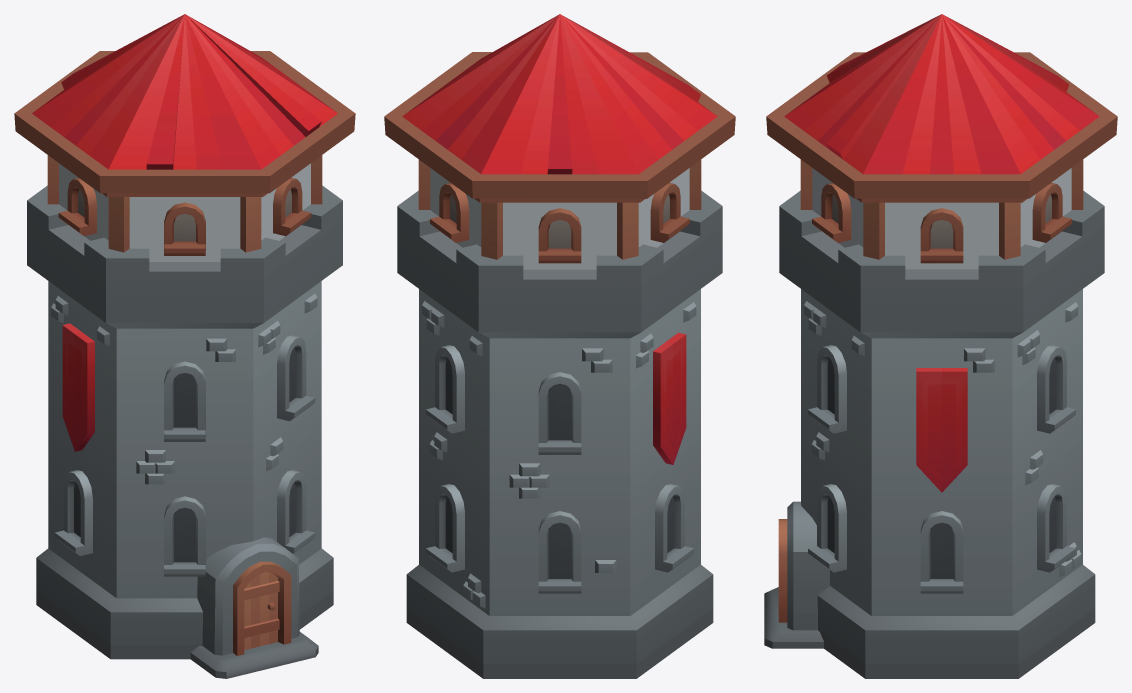
Rendered from kk_tower_a_v1.glb.
The picture shows the model from 3 angles, left to right: view 1: azimuth 30°, elevation 25°; view 2: azimuth 150°, elevation 25°; view 3: azimuth 270°, elevation 25°; orthographic projection. The views are drawn at different scales.
Parts seen in each view (by area): view 1: building_tower_A_red; view 2: building_tower_A_red; view 3: building_tower_A_red.
Boxes of the visible parts, x1,y1,x2,y2 form: building_tower_A_red: [14, 14, 355, 678]; building_tower_A_red: [384, 14, 735, 678]; building_tower_A_red: [764, 14, 1117, 678].
Bounding box in the file's own units: 0.9933 × 2.19 × 1.15.
1 material, 1 textured.
